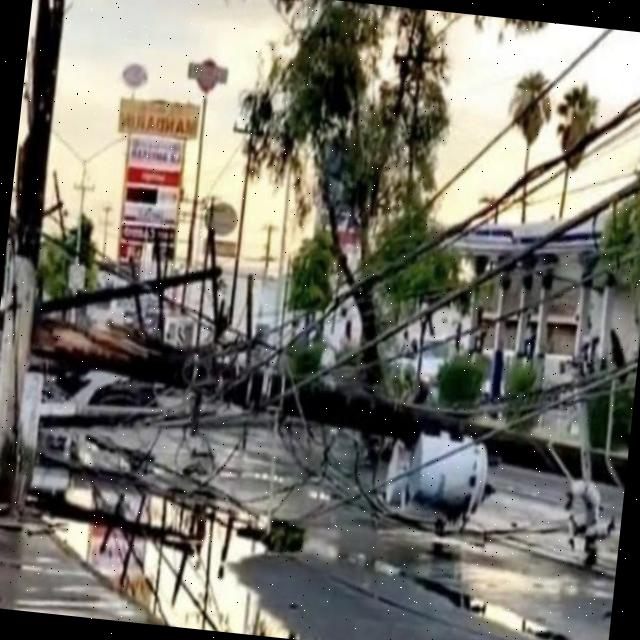Broken Pole: (33, 304, 624, 533), (48, 220, 232, 342)
